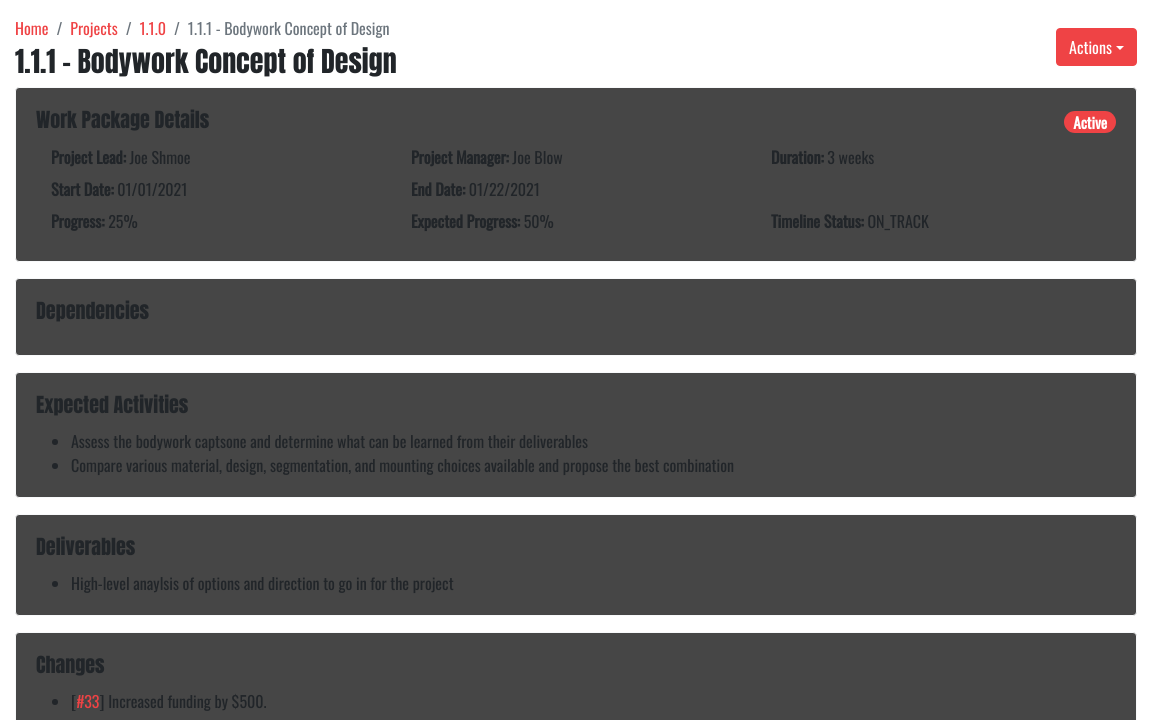
Scenario: work package container view › disables stage gate button when not allowed
The image size is (1152, 720).
Click the button "Actions": (1097, 47) [1056, 28, 1137, 66]
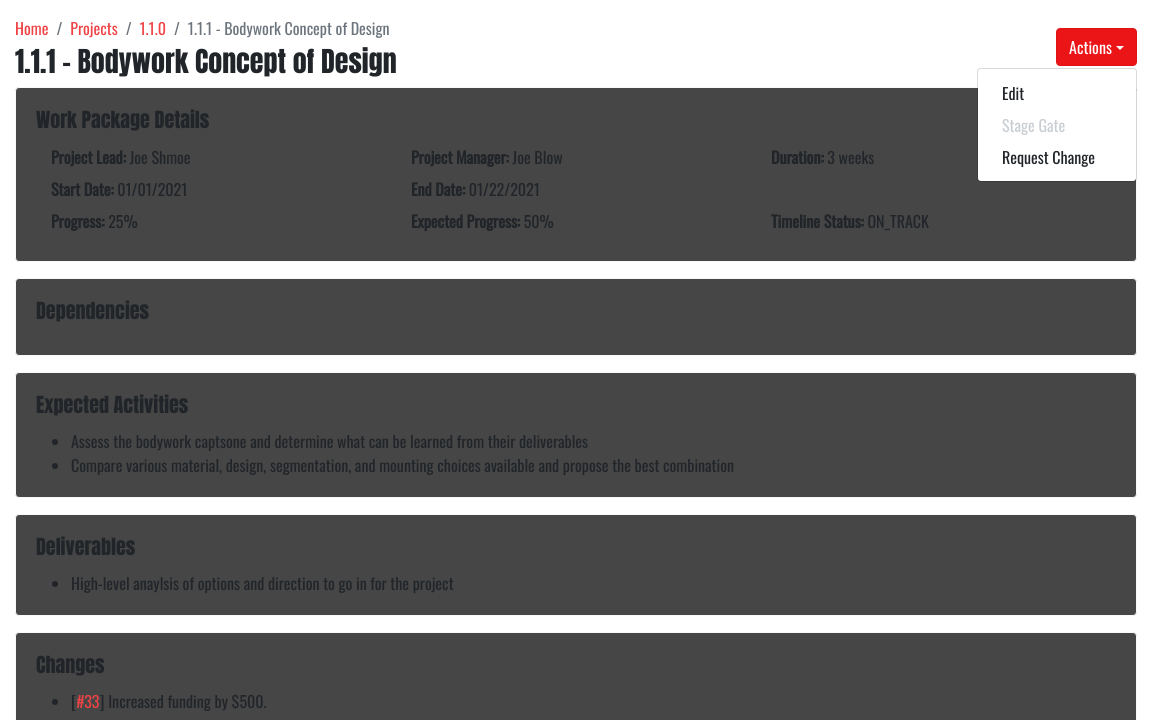
Expected: the button "Stage Gate" is disabled, [978, 109, 1136, 141]
